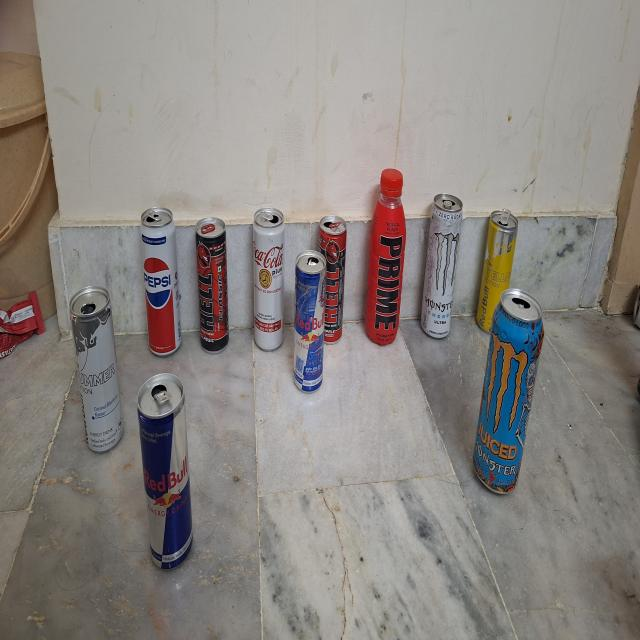Coca Cola Plus: (252, 204, 288, 356)
Hell Apple: (317, 214, 345, 346)
Hell Classic: (194, 214, 232, 358)
Monster Mango Loco: (467, 283, 555, 508)
Pepsi Retro: (135, 191, 184, 358)
Prime - Shitass: (367, 160, 408, 349)
Redbul: (135, 371, 200, 581)
Redbull DanceYourStyle: (292, 249, 325, 393)
Redbull Summer Edition: (68, 282, 128, 462)
Redbull Yellow Edition: (477, 202, 520, 336)
White Monster: (417, 192, 461, 338)
